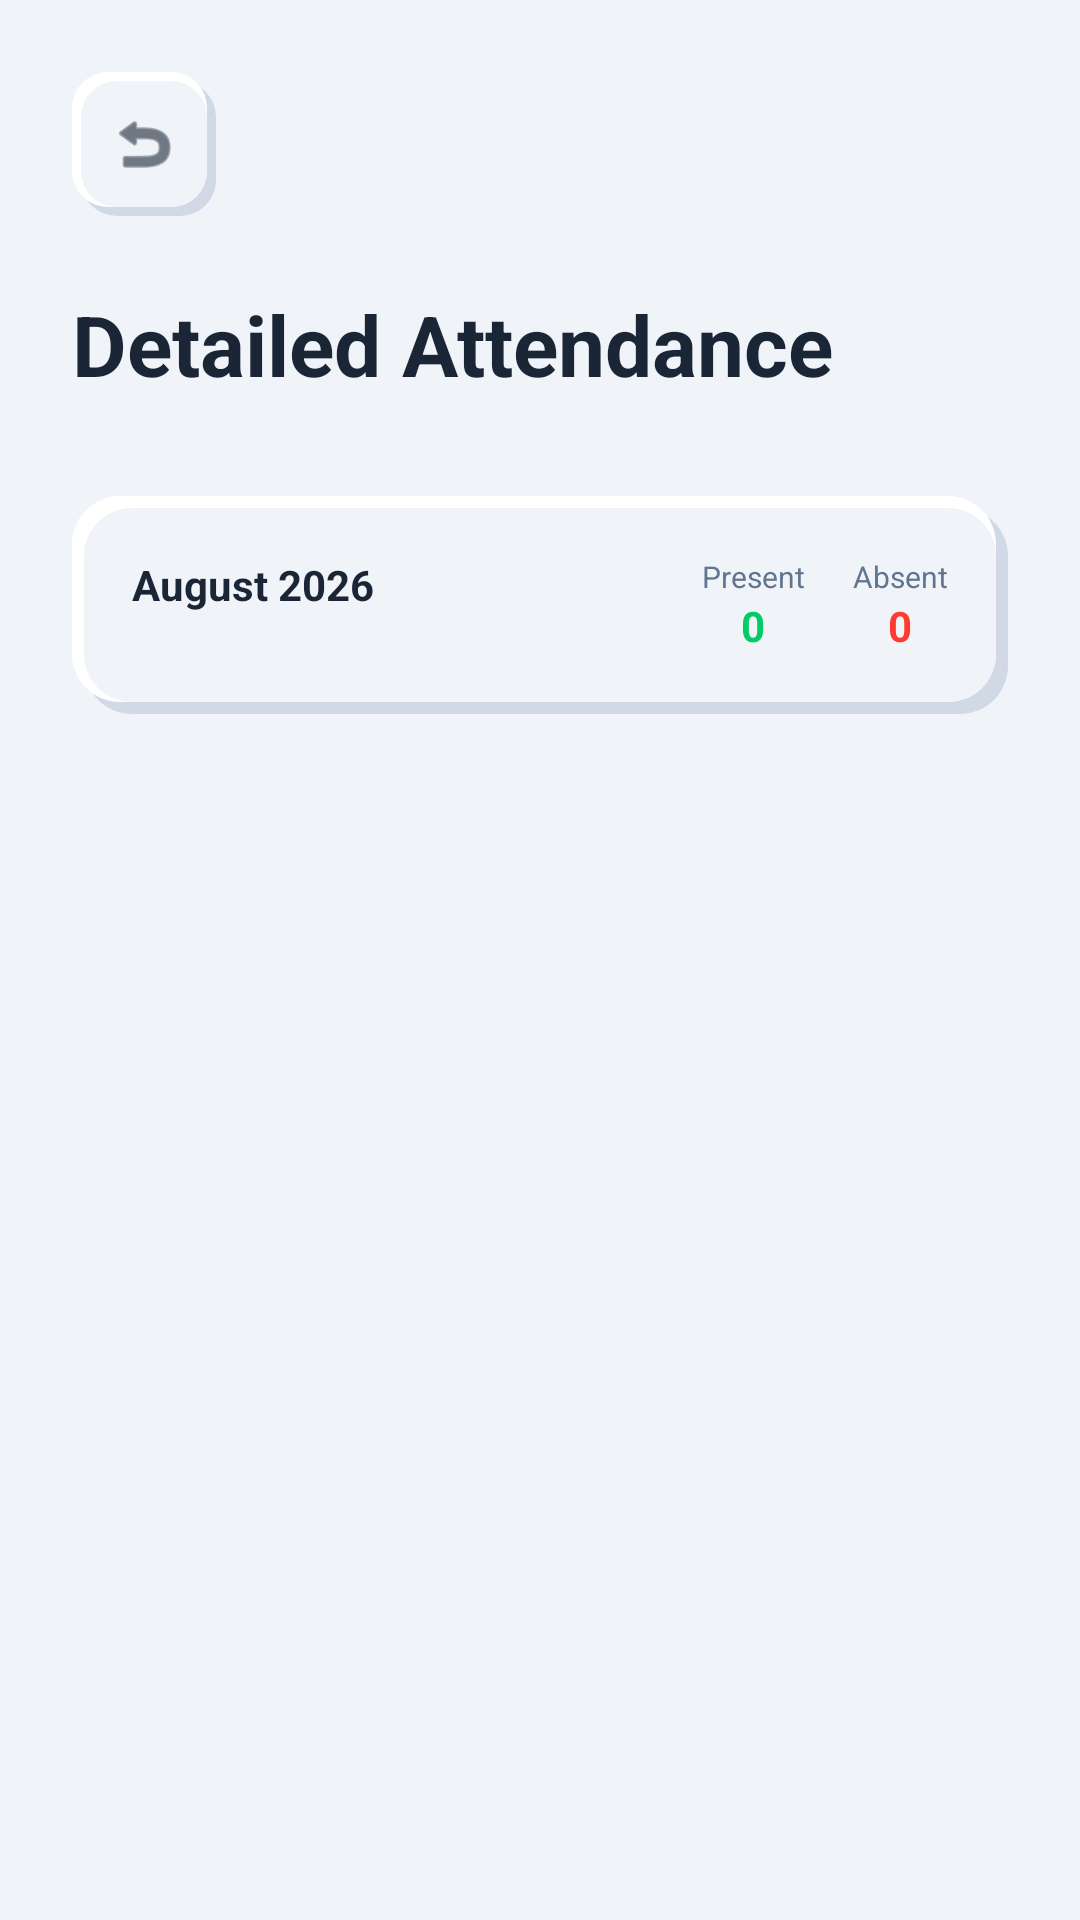

Icons on this 1080x1920 Android screen, each with its box as (x1, y1, x2, y2):
revert: (119, 121, 171, 168)
